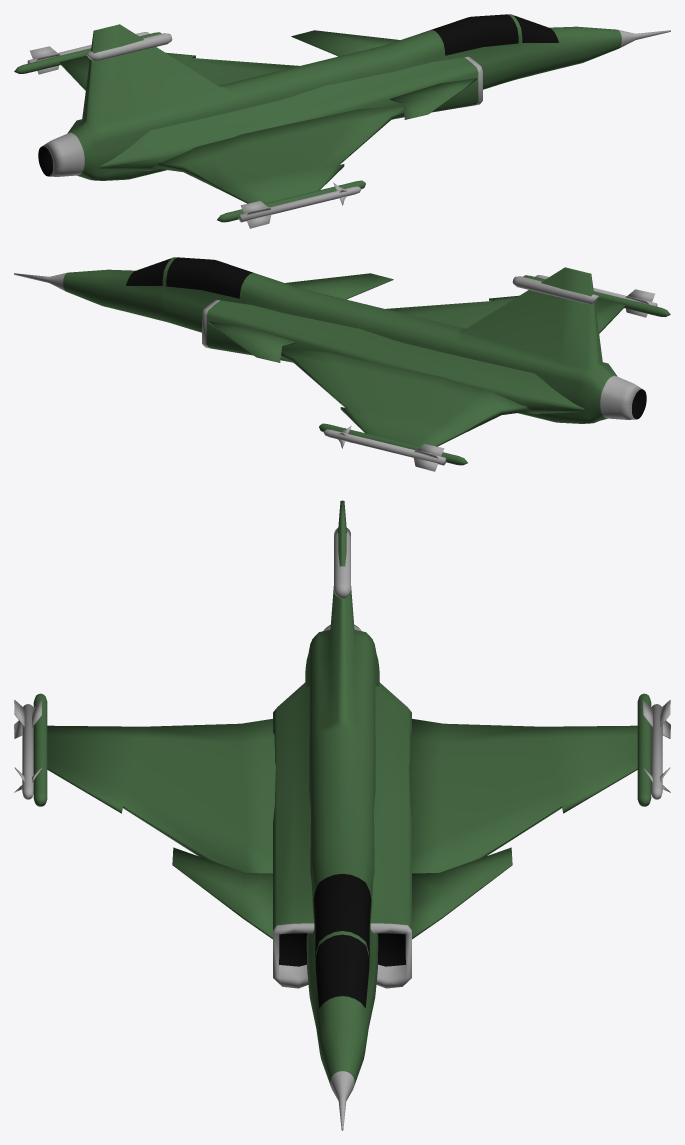
File: gripen.obj
3 renders of one model, top to bottom at view 1: azimuth 30°, elevation 25°; view 2: azimuth 150°, elevation 25°; view 3: azimuth 270°, elevation 25°, orthographic. The views are drawn at different scales.
Visible parts, largest first — view 1: Plane.002; view 2: Plane.002; view 3: Plane.002.
Boxes of the visible parts, x1,y1,x2,y2 form: Plane.002: (14,14,670,228); Plane.002: (14,257,670,471); Plane.002: (14,500,670,1130).
Size of the model in its own units: 3.29 by 0.7578 by 2.01.
